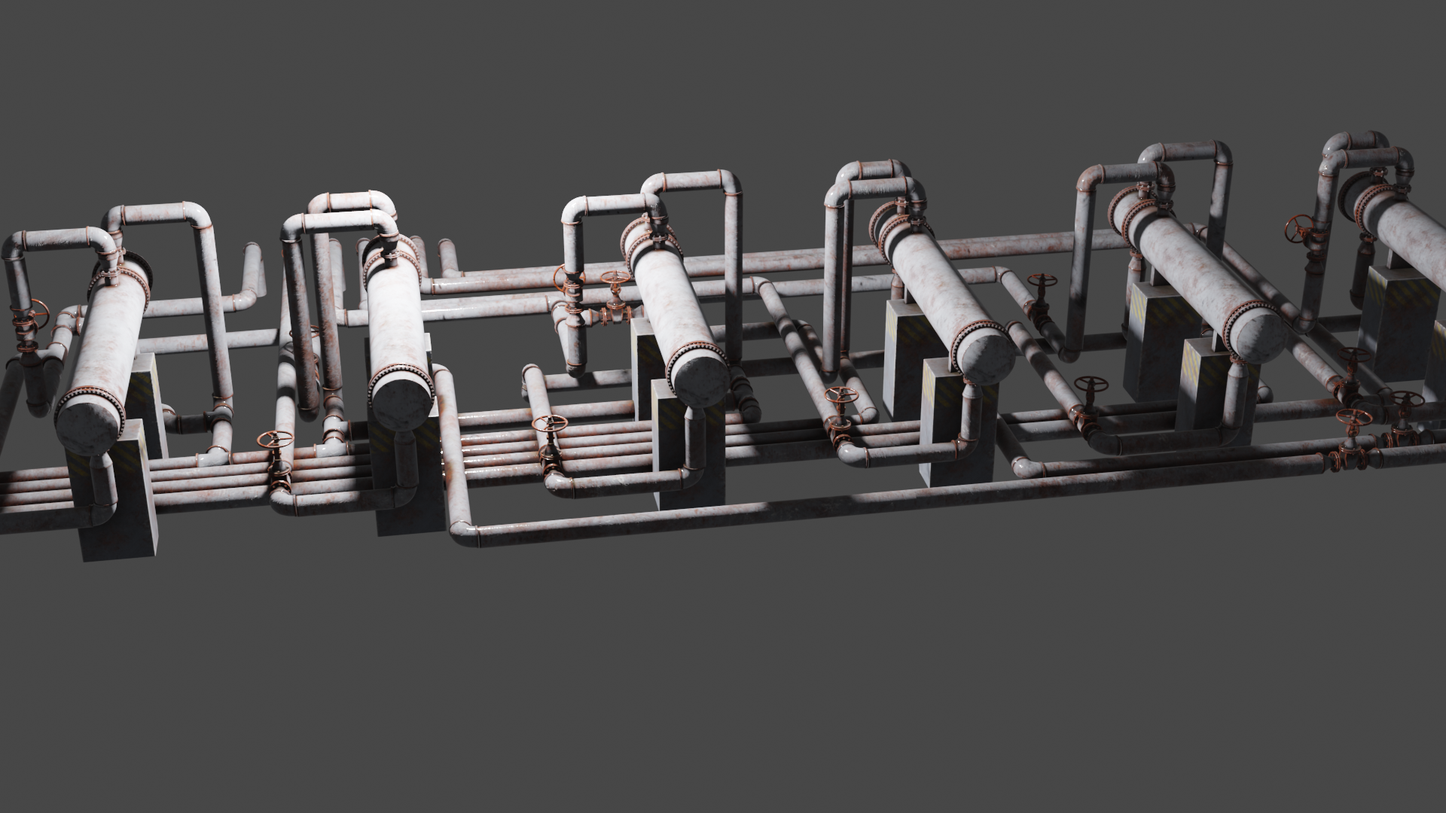HE_1: (1336, 170, 1446, 291)
HE_2: (1105, 191, 1283, 359)
HE_3: (868, 196, 1020, 394)
HE_4: (619, 209, 731, 410)
HE_5: (360, 231, 432, 432)
HE_6: (52, 252, 153, 457)
